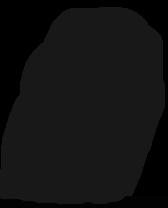fp: (1, 1, 168, 203)
